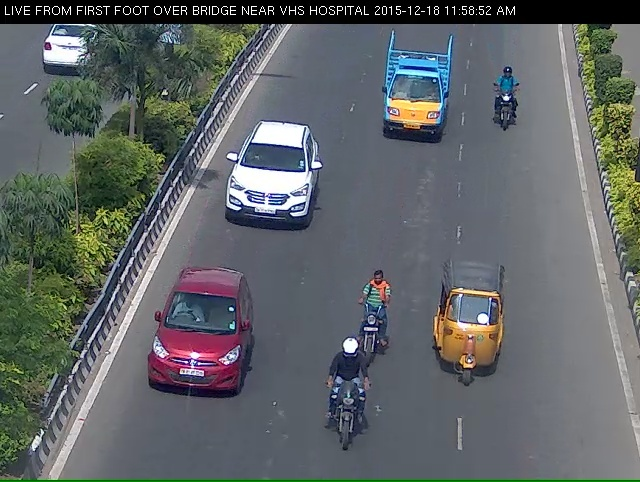Auto: (372, 42, 449, 159), (438, 282, 496, 415)
Car: (138, 302, 255, 428), (224, 138, 314, 247)
Person: (321, 372, 370, 471), (347, 292, 390, 373), (484, 69, 515, 159)
